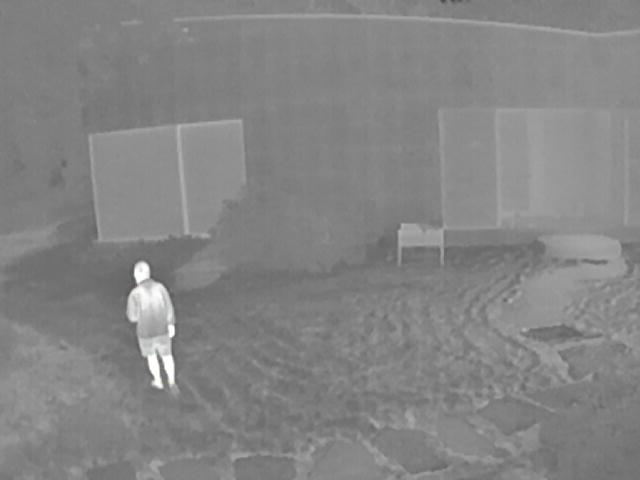person: (127, 262, 175, 391)
